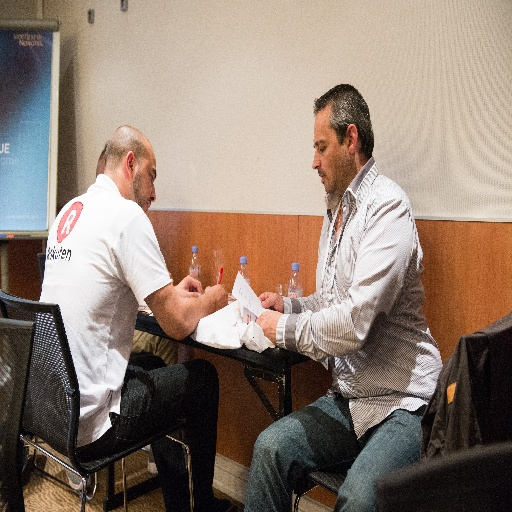hand: (254, 312, 281, 346), (173, 272, 203, 297), (205, 283, 228, 311), (258, 291, 283, 312)
